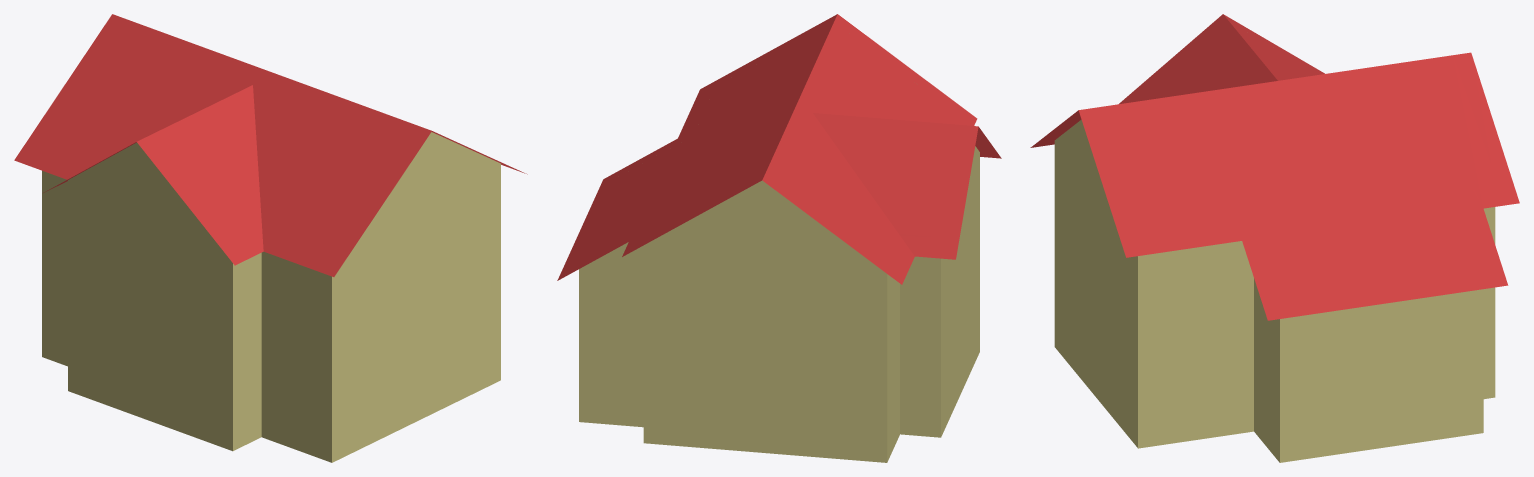
3 views of the same model, side by side, from view 1: azimuth 30°, elevation 25°; view 2: azimuth 150°, elevation 25°; view 3: azimuth 270°, elevation 25° (orthographic). The views are drawn at different scales.
Bounding box in the file's own units: 17.96 × 18.94 × 12.41.
